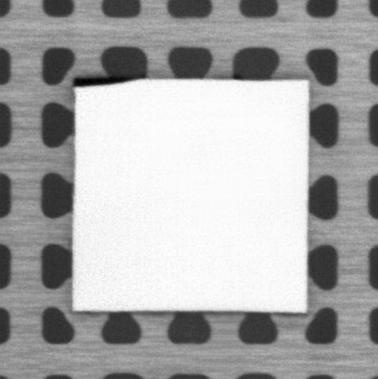DIE_BROKEN: (72, 75, 138, 87)
